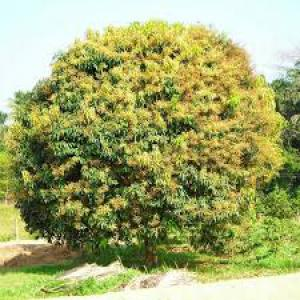Tree: (11, 17, 285, 264)
